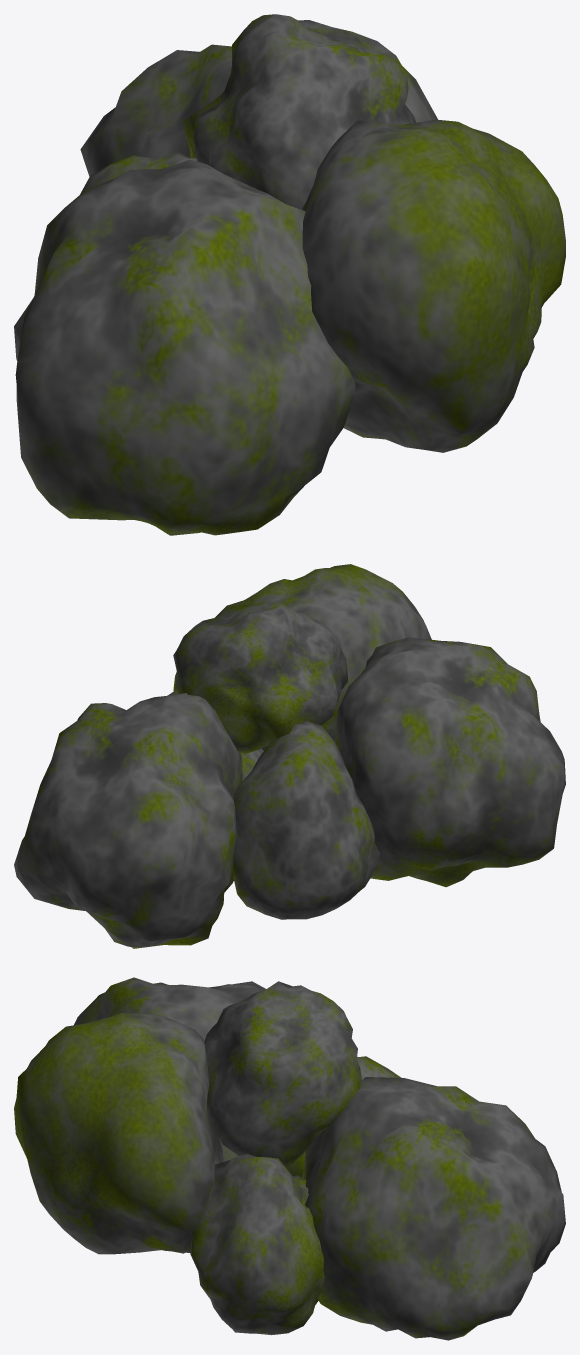
File: rock_04.glb
The picture shows the model from 3 angles, top to bottom: view 1: azimuth 30°, elevation 25°; view 2: azimuth 150°, elevation 25°; view 3: azimuth 270°, elevation 25°; orthographic projection. The views are drawn at different scales.
Visible parts, largest first — view 1: Object_29; view 2: Object_29; view 3: Object_29.
Part boxes in pixels (left/top/right/bottom): Object_29: left=14, top=14, right=565, bottom=535; Object_29: left=14, top=564, right=565, bottom=948; Object_29: left=14, top=977, right=565, bottom=1340.
Bounding box in the file's own units: 5.22 × 3.74 × 5.87.
1 material, 1 textured.
